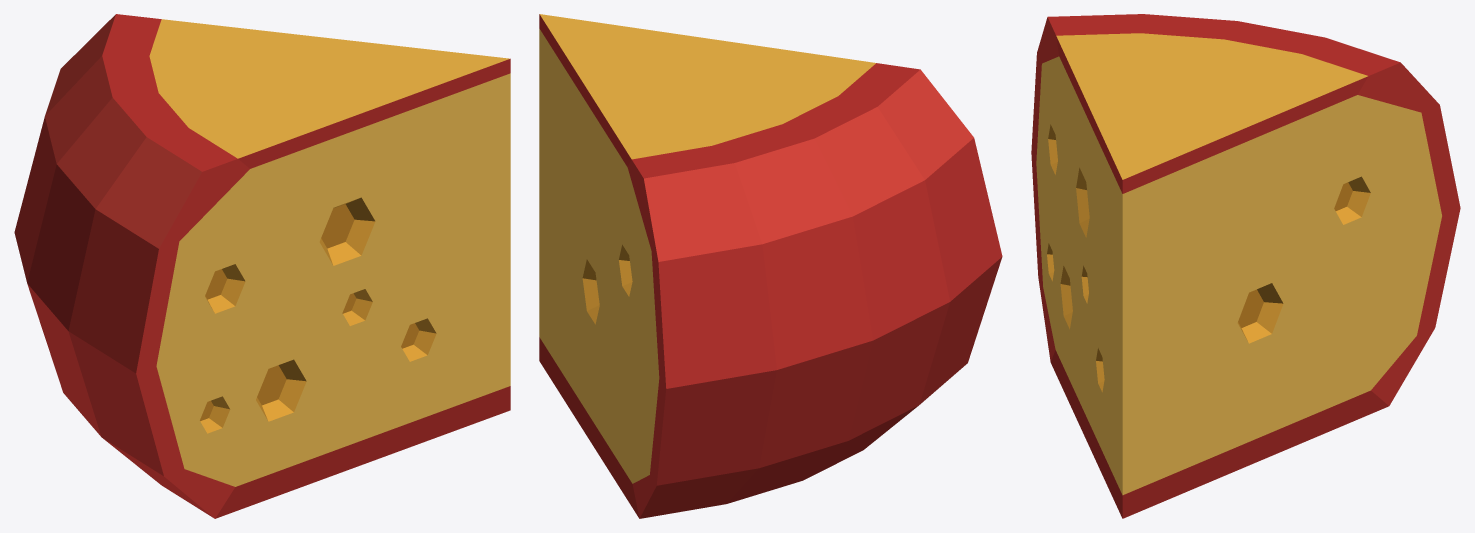
File: FMS_Food_Cheese_Slice.fbx
3 views of the same model, side by side, from view 1: azimuth 30°, elevation 25°; view 2: azimuth 150°, elevation 25°; view 3: azimuth 270°, elevation 25° (orthographic). The views are drawn at different scales.
Parts seen in each view (by area): view 1: item_food_cheese_slice; view 2: item_food_cheese_slice; view 3: item_food_cheese_slice.
Part boxes in pixels (x1,y1,x2,y2): item_food_cheese_slice: (14, 14, 510, 518); item_food_cheese_slice: (539, 14, 1002, 518); item_food_cheese_slice: (1031, 14, 1460, 518).
Size of the model in its own units: 0.1468 by 0.115 by 0.132.
Materials: 1 (1 with a texture image).
